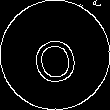O_N: (29, 26, 81, 84)
